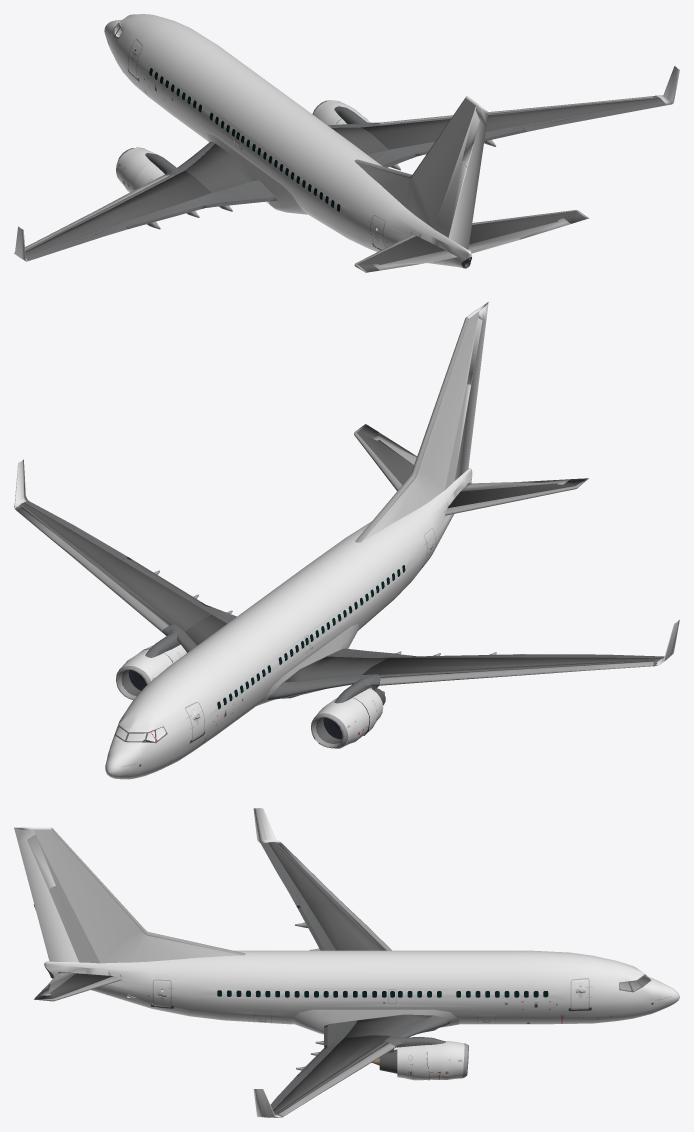
The picture shows the model from 3 angles, top to bottom: view 1: azimuth 30°, elevation 25°; view 2: azimuth 150°, elevation 25°; view 3: azimuth 270°, elevation 25°; orthographic projection. The views are drawn at different scales.
Parts seen in each view (by area): view 1: rootNode; view 2: rootNode; view 3: rootNode.
Boxes of the visible parts, left/top/right/bottom form: rootNode: left=14, top=14, right=679, bottom=272; rootNode: left=14, top=302, right=679, bottom=779; rootNode: left=14, top=808, right=679, bottom=1117.
Size of the model in its own units: 34.85 by 12.08 by 34.93.
5 materials, 5 textured.
